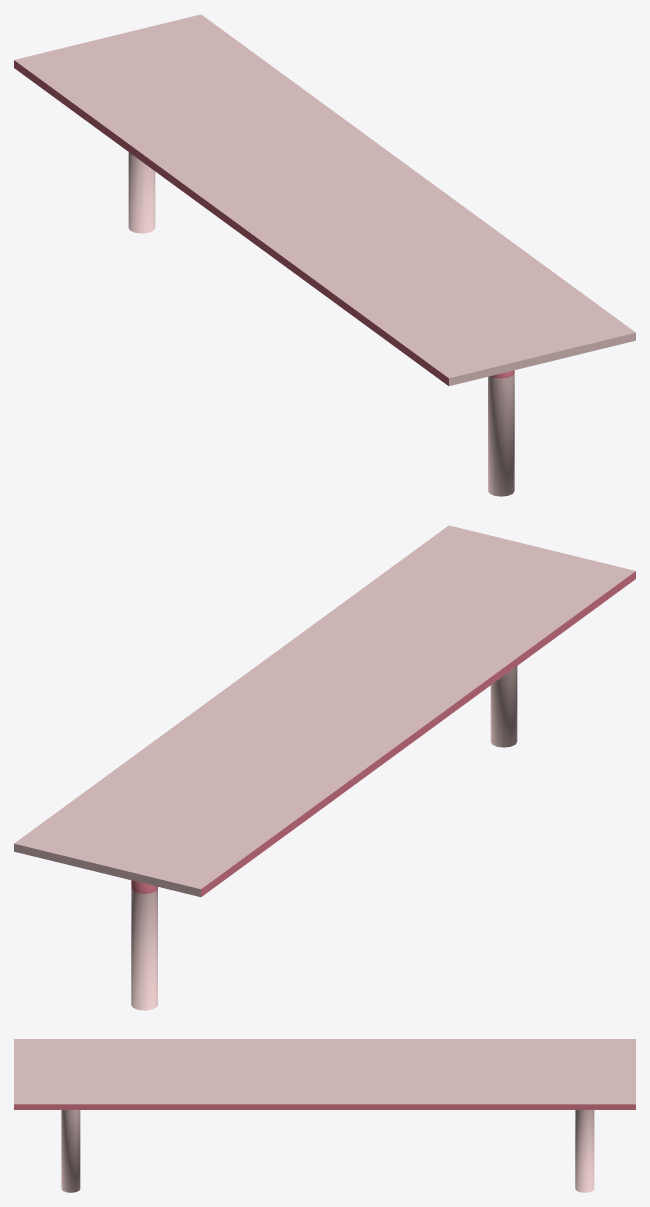
The model's file is Bureau.dae.
3 renders of one model, top to bottom at view 1: azimuth 30°, elevation 25°; view 2: azimuth 150°, elevation 25°; view 3: azimuth 270°, elevation 25°, orthographic. The views are drawn at different scales.
Visible parts, largest first — view 1: pied table 2; view 2: pied table 2; view 3: pied table 2.
Boxes of the visible parts, left/top/right/bottom form: pied table 2: left=14, top=14, right=635, bottom=496; pied table 2: left=14, top=525, right=635, bottom=1010; pied table 2: left=14, top=1039, right=635, bottom=1192.
Bounding box in the file's own units: 2.47 × 9.96 × 2.08.
